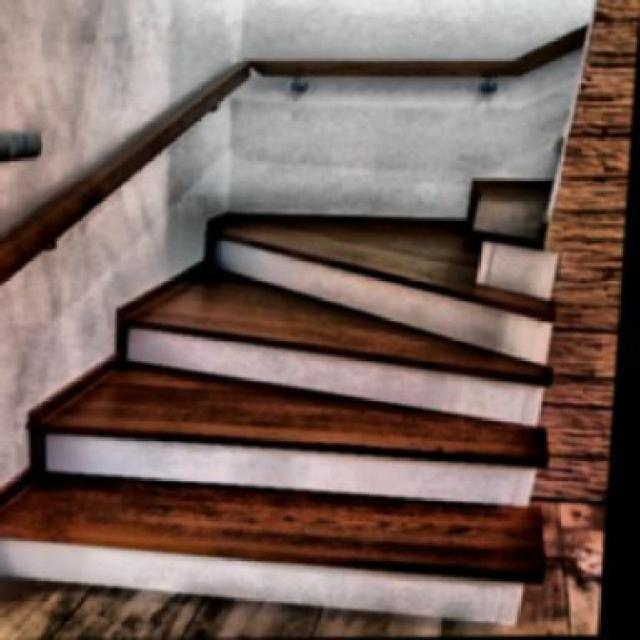stair: (1, 274, 568, 610)
